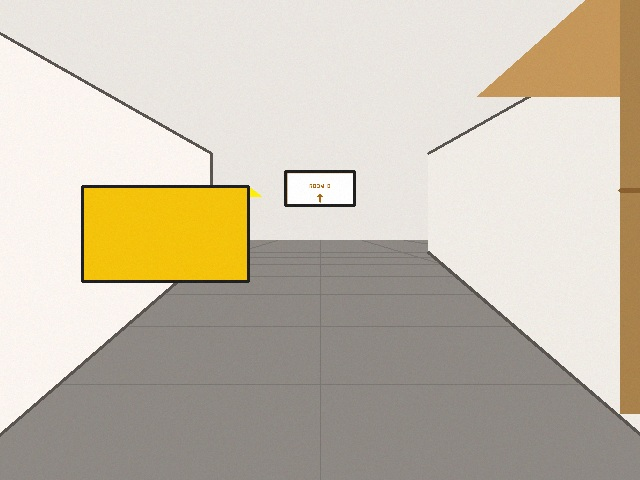box: (477, 0, 639, 413)
directional_sign: (285, 171, 354, 205)
forklift: (82, 186, 261, 281)
